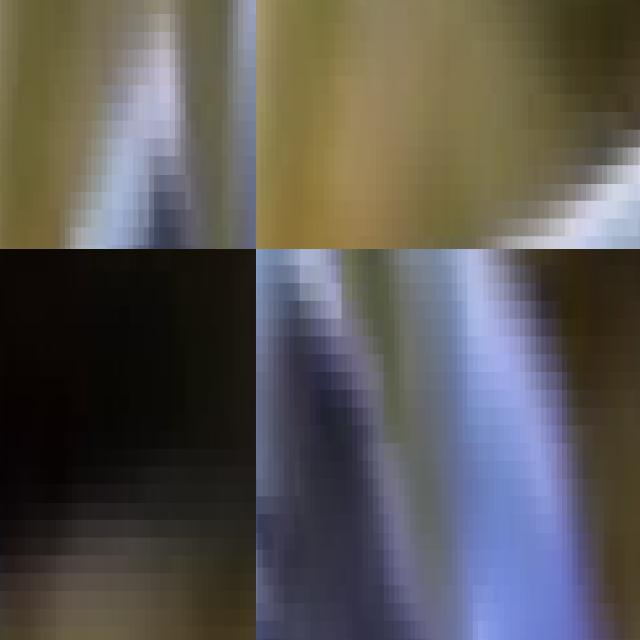fish: (256, 0, 640, 249), (0, 0, 256, 249)
